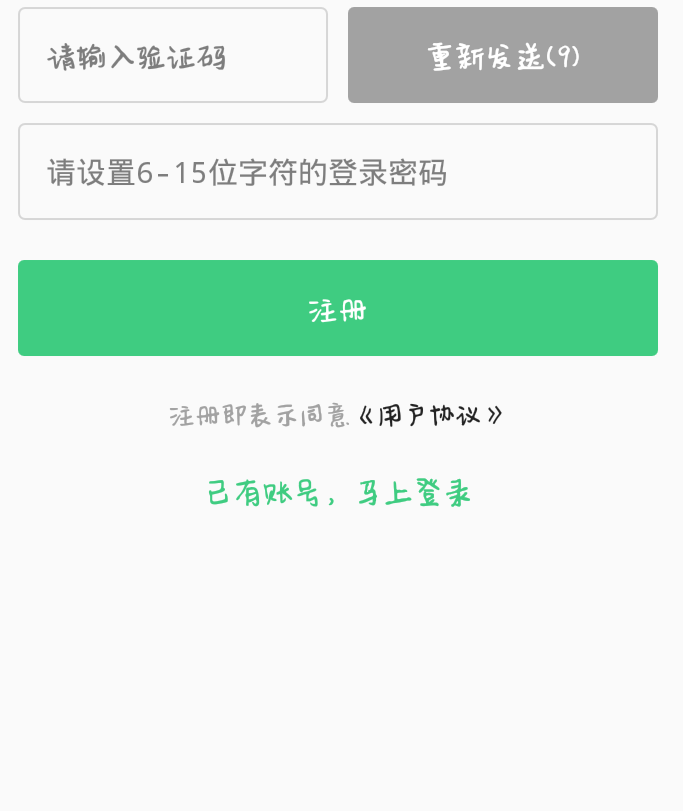button: (338, 2, 668, 110)
